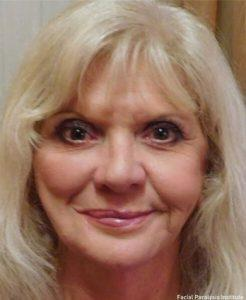strokeEyeWeak: (58, 111, 190, 154)
strokeMouthWeak: (74, 203, 167, 236)
